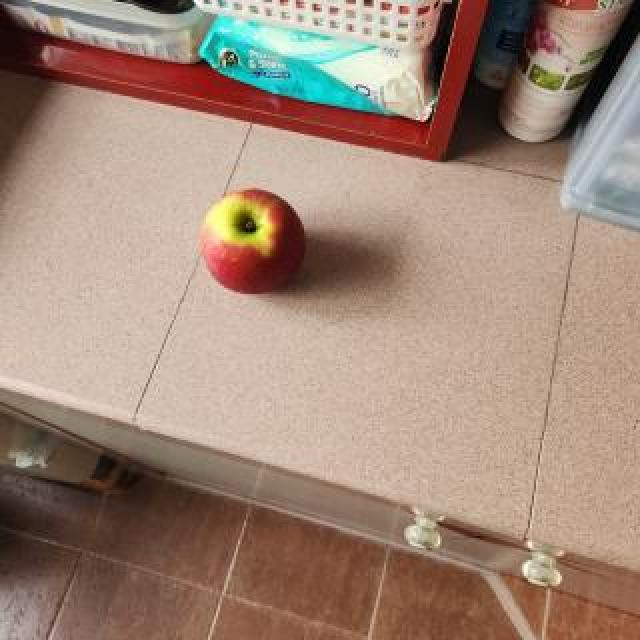Fresh Apple: (192, 182, 315, 302)
